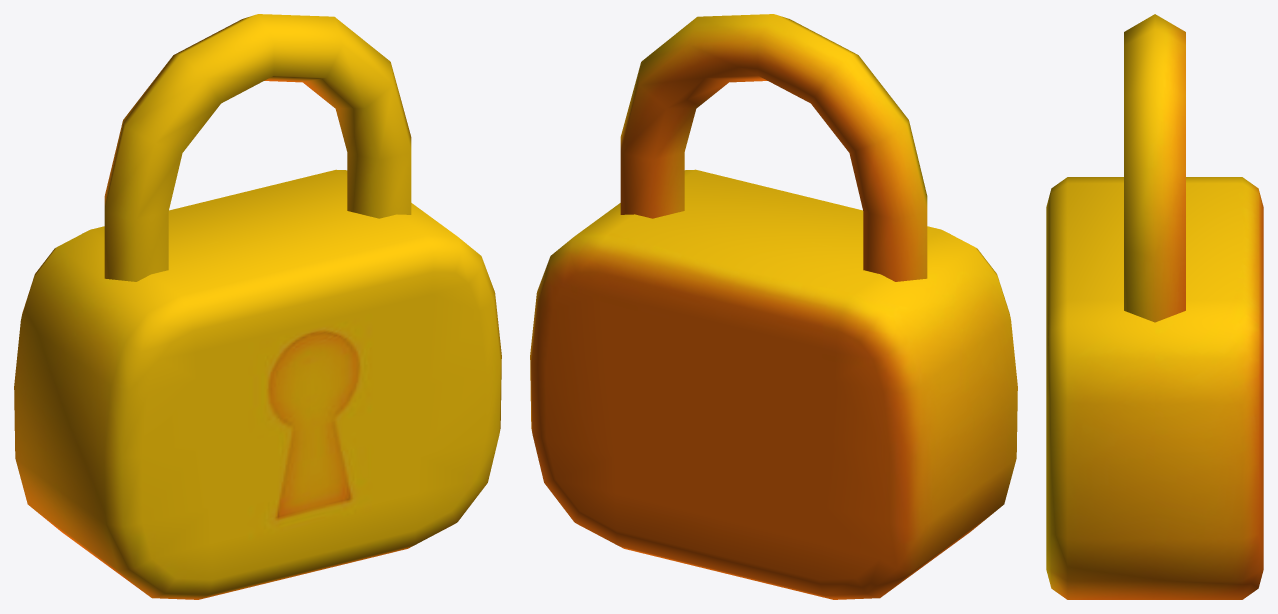
The model's file is padlock.glb.
The picture shows the model from 3 angles, left to right: view 1: azimuth 30°, elevation 25°; view 2: azimuth 150°, elevation 25°; view 3: azimuth 270°, elevation 25°; orthographic projection. The views are drawn at different scales.
Size of the model in its own units: 1 by 1.27 by 0.4881.
1 material, 1 textured.
